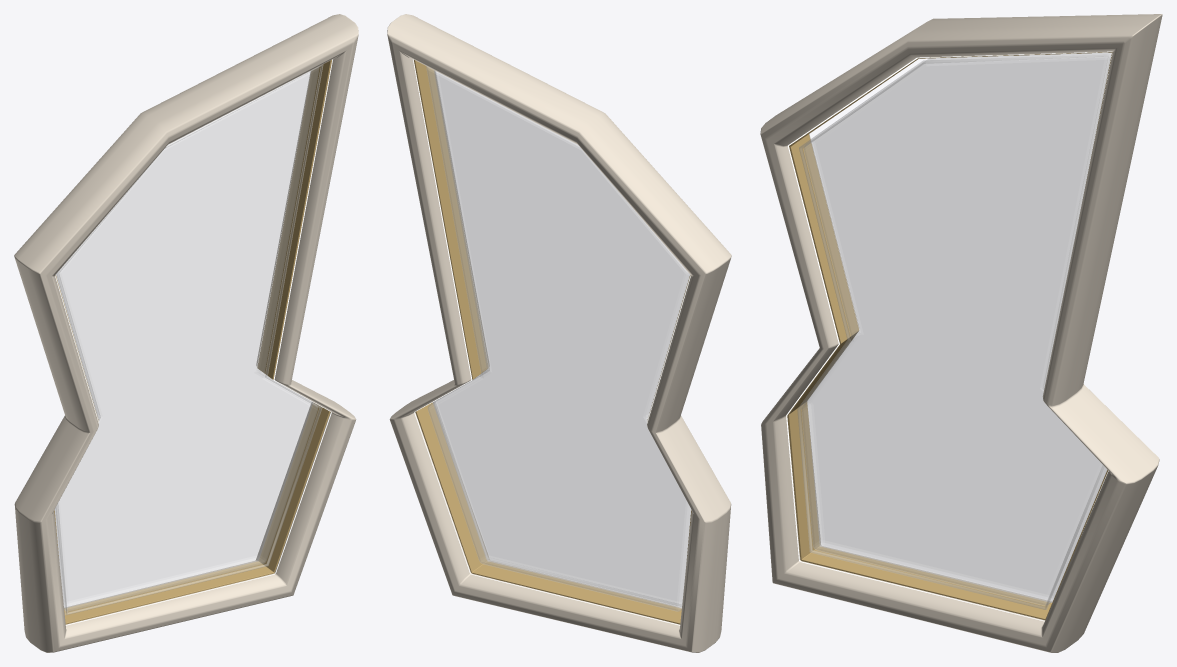
File: fault.glb
3 views of the same model, side by side, from view 1: azimuth 30°, elevation 25°; view 2: azimuth 150°, elevation 25°; view 3: azimuth 330°, elevation 25° (orthographic). The views are drawn at different scales.
Parts seen in each view (by area): view 1: Slab_Glass.002, Fixed_GlassFrame.002, Fixed_ChampagneReveal.002, Slab_PolishedEdge.002, Fixed_InnerLight_Front.002; view 2: Slab_Glass.002, Fixed_GlassFrame.002, Fixed_ChampagneReveal.002, Slab_PolishedEdge.002, Fixed_InnerLight_Back.002; view 3: Slab_Glass.002, Fixed_GlassFrame.002, Fixed_ChampagneReveal.002, Slab_PolishedEdge.002, Fixed_InnerLight_Front.002.
Part boxes in pixels (x1,y1,x2,y2): Slab_Glass.002: [55, 67, 319, 611]; Fixed_GlassFrame.002: [14, 14, 358, 652]; Fixed_ChampagneReveal.002: [54, 60, 331, 624]; Slab_PolishedEdge.002: [56, 64, 322, 614]; Fixed_InnerLight_Front.002: [55, 59, 332, 625]; Slab_Glass.002: [426, 66, 690, 611]; Fixed_GlassFrame.002: [387, 14, 731, 652]; Fixed_ChampagneReveal.002: [414, 60, 691, 624]; Slab_PolishedEdge.002: [433, 70, 681, 606]; Fixed_InnerLight_Back.002: [413, 59, 690, 625]; Slab_Glass.002: [802, 53, 1111, 605]; Fixed_GlassFrame.002: [760, 14, 1162, 652]; Fixed_ChampagneReveal.002: [787, 52, 1112, 620]; Slab_PolishedEdge.002: [797, 54, 1110, 609]; Fixed_InnerLight_Front.002: [786, 51, 1112, 621].
Size of the model in its own units: 2.04 by 3.29 by 0.3518.
